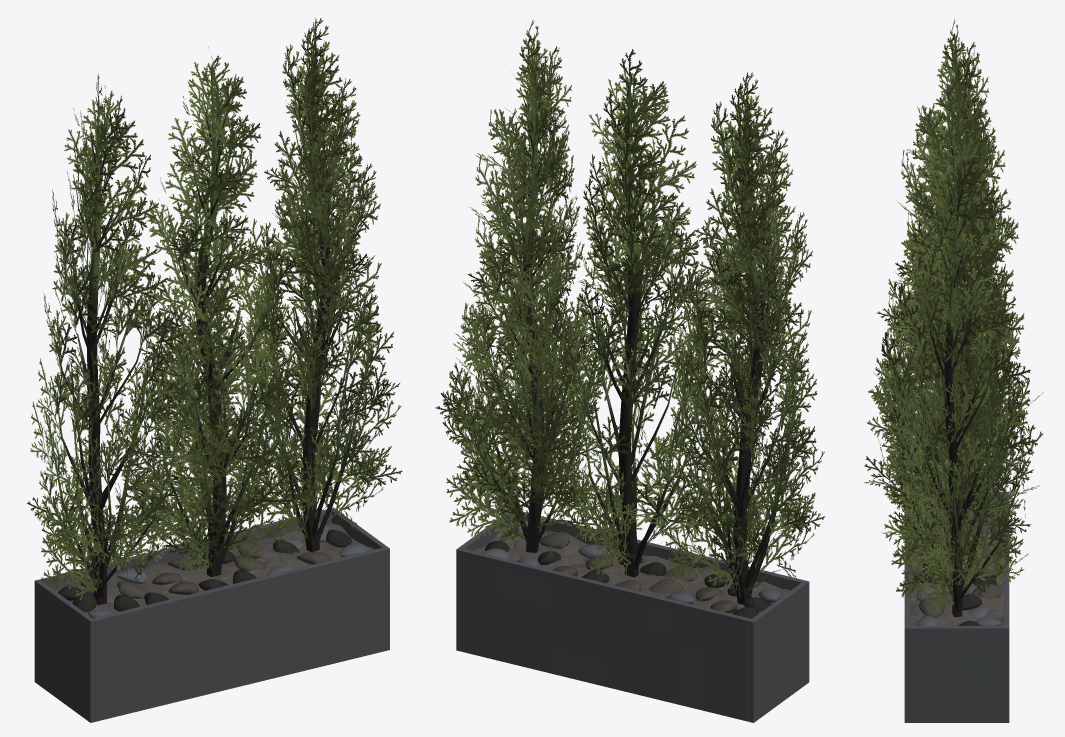
File: plugin_test.glb
The picture shows the model from 3 angles, left to right: view 1: azimuth 30°, elevation 25°; view 2: azimuth 150°, elevation 25°; view 3: azimuth 270°, elevation 25°; orthographic projection. The views are drawn at different scales.
Visible parts, largest first — view 1: wda4ahsok1wt0lj-vba__r2__.bzo; view 2: wda4ahsok1wt0lj-vba__r2__.bzo; view 3: wda4ahsok1wt0lj-vba__r2__.bzo.
Boxes of the visible parts, x1=… form: wda4ahsok1wt0lj-vba__r2__.bzo: x1=27, y1=18, x2=402, y2=722; wda4ahsok1wt0lj-vba__r2__.bzo: x1=435, y1=19, x2=824, y2=722; wda4ahsok1wt0lj-vba__r2__.bzo: x1=864, y1=19, x2=1043, y2=722.
Bounding box in the file's own units: 1.18 × 1.89 × 0.5691.
Materials: 5 (5 with a texture image).
